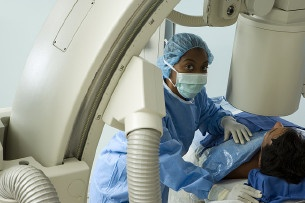Mask: (171, 53, 217, 99)
